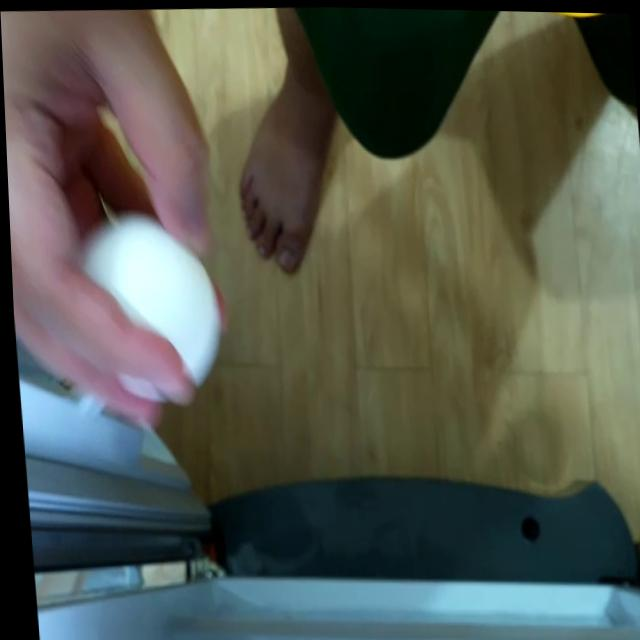egg: (66, 215, 221, 392)
